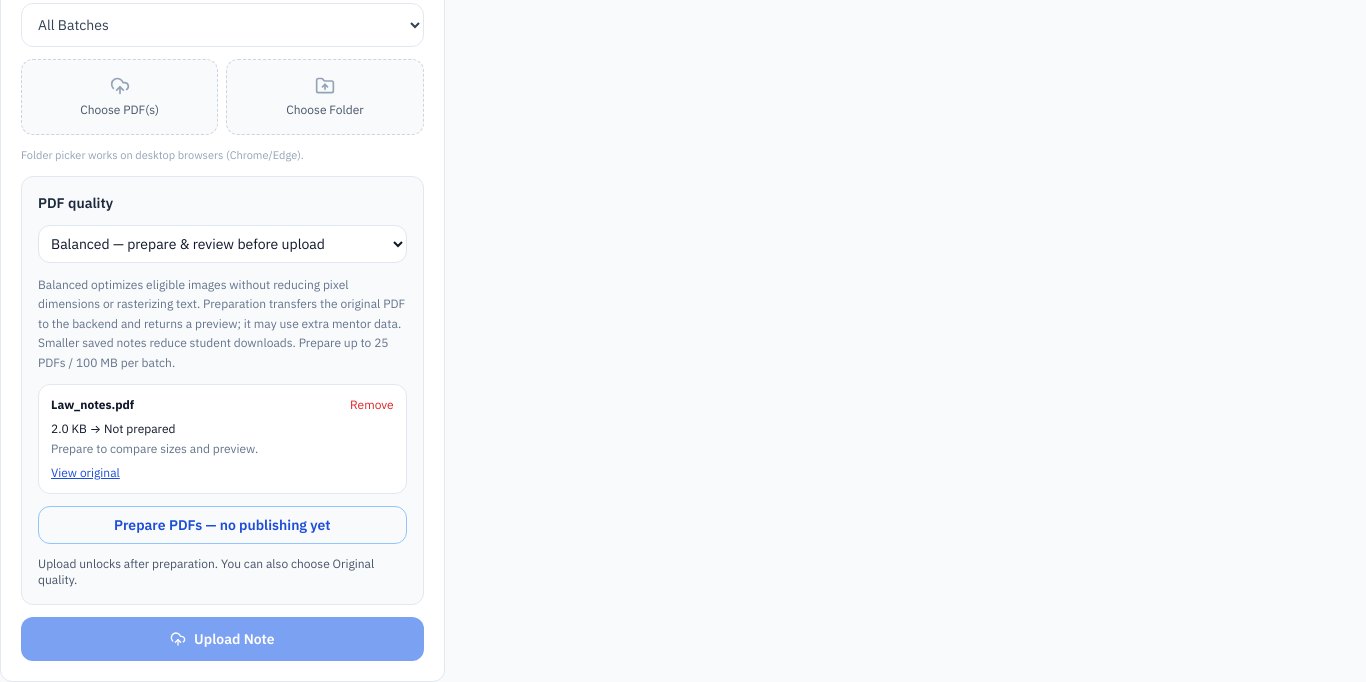
Test case: balanced starts locked; preparation does not publish
Earlier steps of the test are not shown.
(page scrolled)
Expected: the button with test id "publish-note" is disabled, [21, 617, 424, 661]
Click the button "Prepare PDFs — no publishing yet": (222, 525) [38, 506, 407, 544]
(page scrolled)
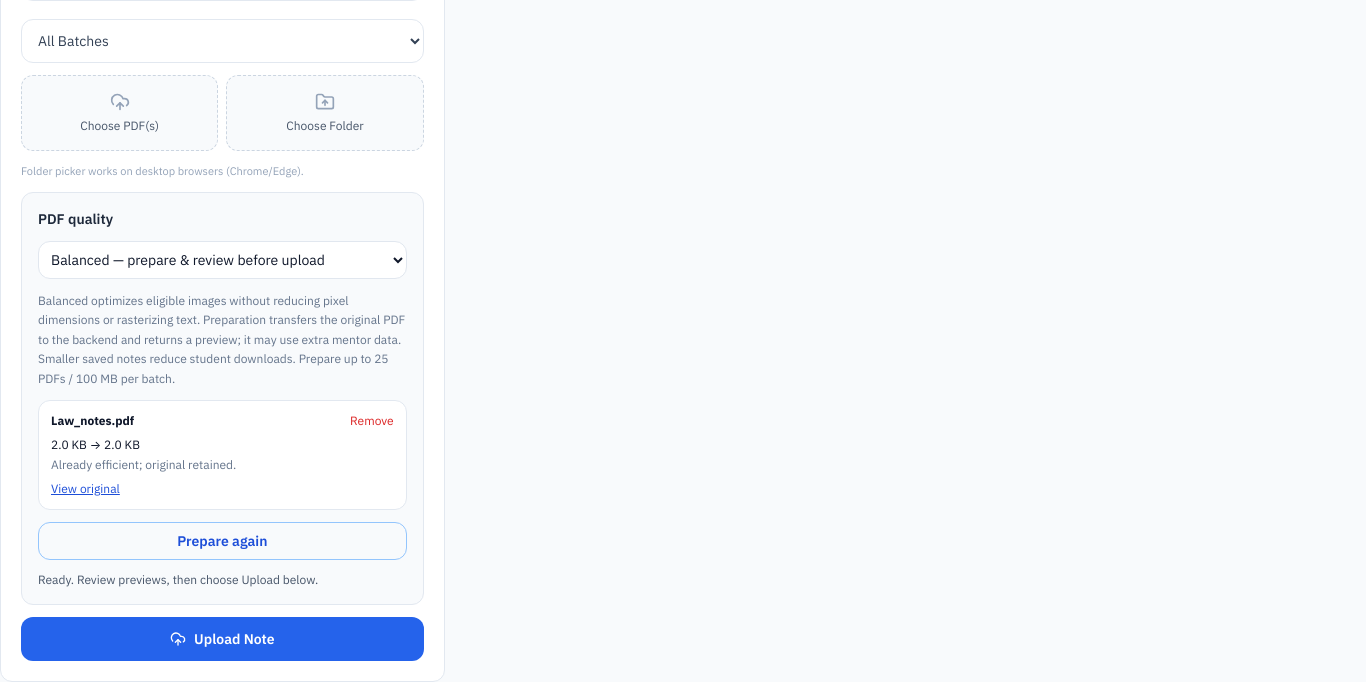
Now the button "Upload Note" is enabled, box [21, 617, 424, 661]
